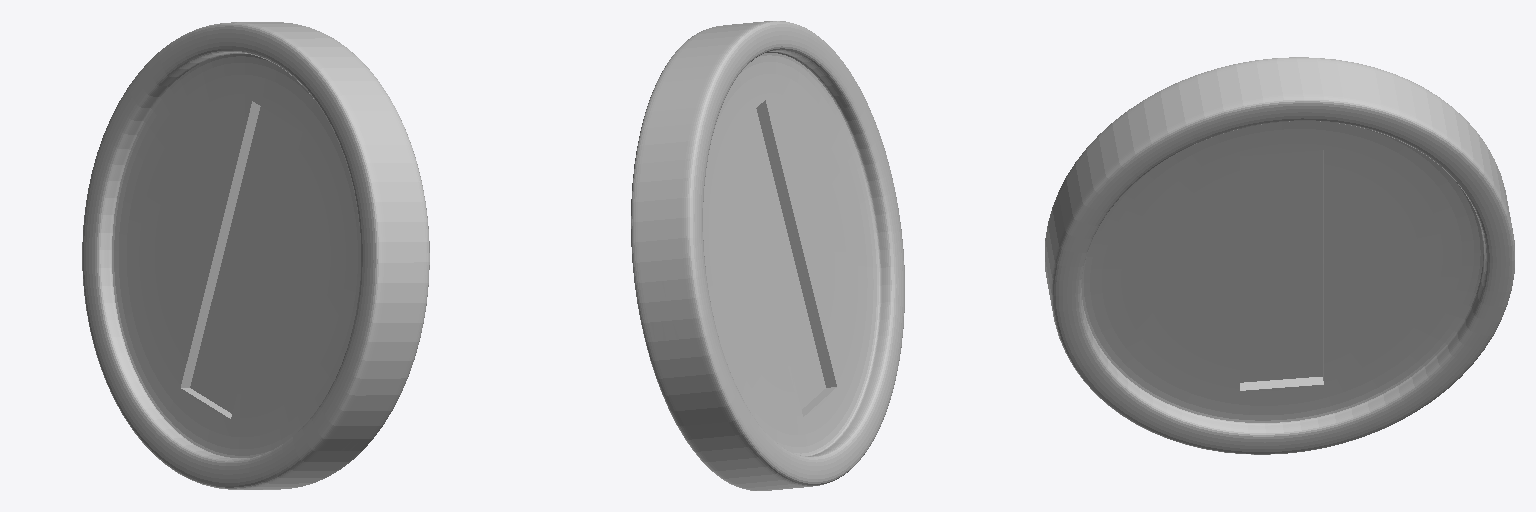
The model's file is coin.obj.
3 views of the same model, side by side, from view 1: azimuth 30°, elevation 25°; view 2: azimuth 150°, elevation 25°; view 3: azimuth 270°, elevation 25° (orthographic).
Parts seen in each view (by area): view 1: g moneda_2; view 2: g moneda_2; view 3: g moneda_2.
Boxes of the visible parts, x1,y1,x2,y2 form: g moneda_2: [82, 22, 429, 489]; g moneda_2: [631, 21, 904, 490]; g moneda_2: [1045, 57, 1514, 454].
Size of the model in its own units: 0.8505 by 1.98 by 2.